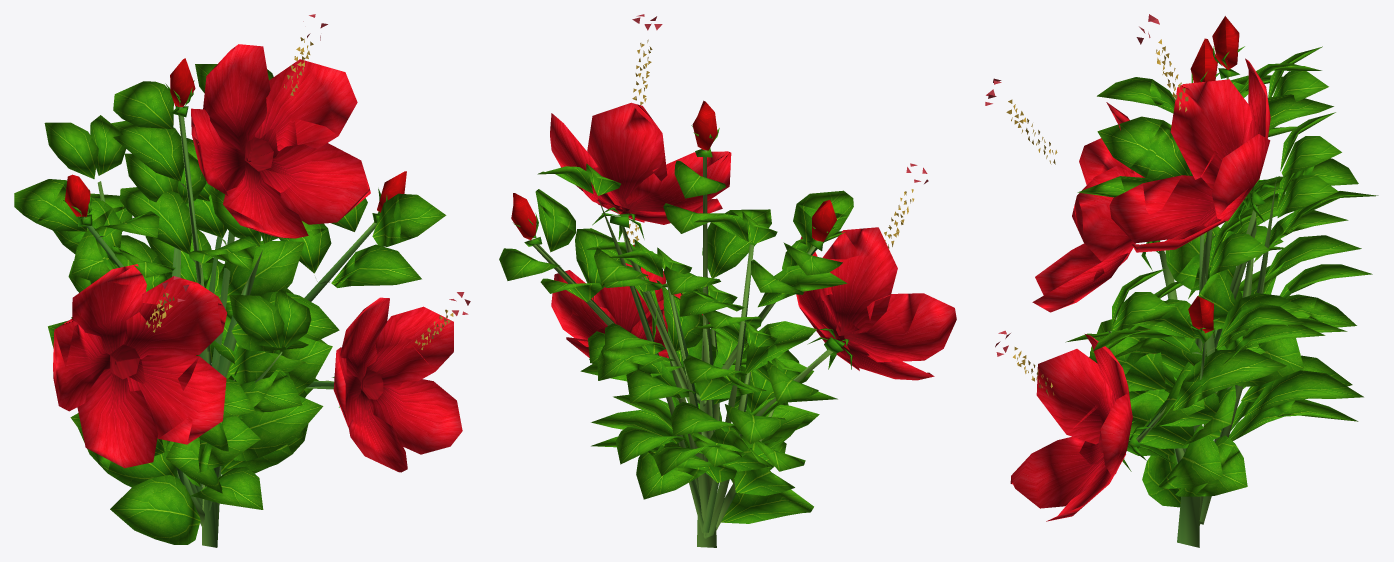
File: NP_Hibiscus_Ready_LOD1.fbx
3 views of the same model, side by side, from view 1: azimuth 30°, elevation 25°; view 2: azimuth 150°, elevation 25°; view 3: azimuth 270°, elevation 25° (orthographic). The views are drawn at different scales.
Visible parts, largest first — view 1: NP_Hibiscus_Ready; view 2: NP_Hibiscus_Ready; view 3: NP_Hibiscus_Ready.
Boxes of the visible parts, x1=… form: NP_Hibiscus_Ready: x1=14, y1=14, x2=470, y2=547; NP_Hibiscus_Ready: x1=499, y1=14, x2=956, y2=547; NP_Hibiscus_Ready: x1=985, y1=14, x2=1378, y2=547.
Size of the model in its own units: 79.26 by 95.25 by 59.91.
